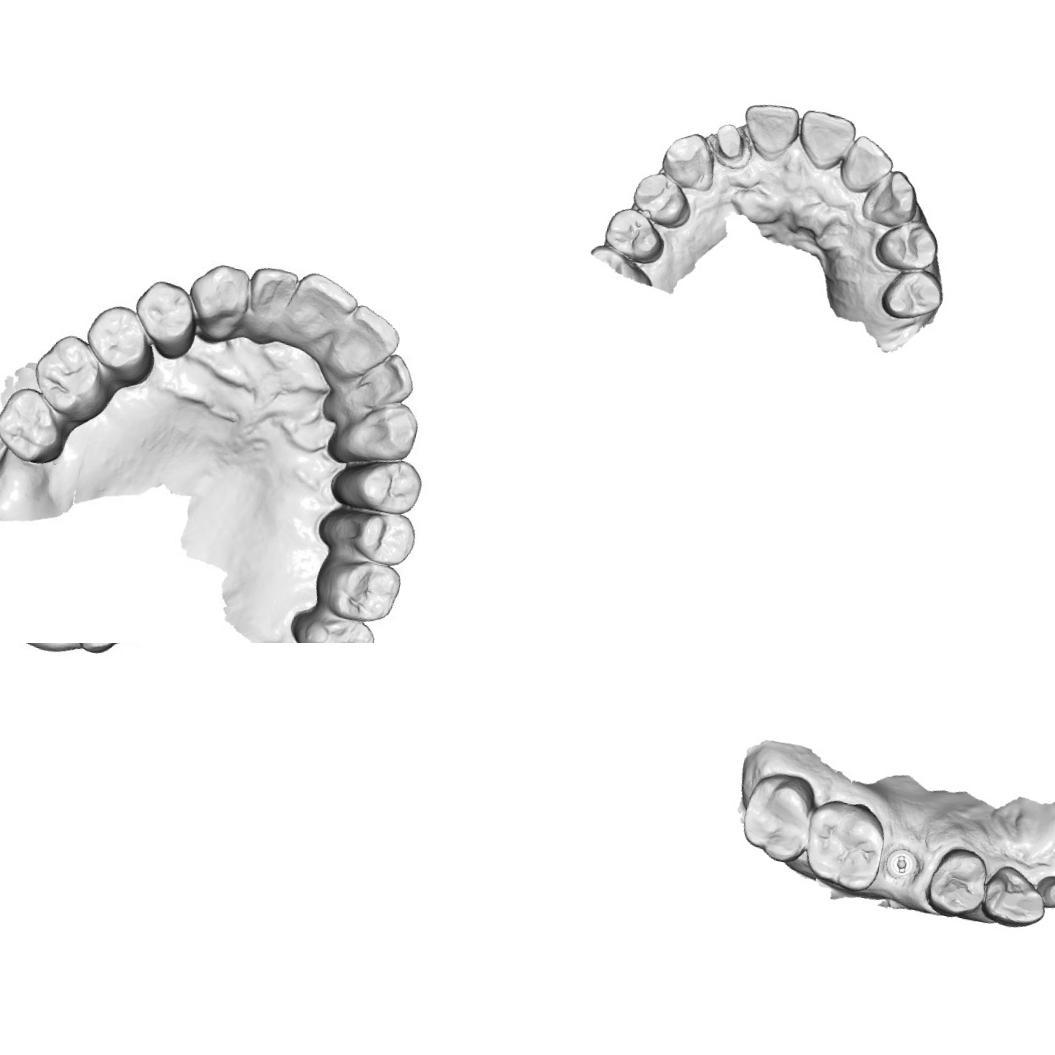canine: (178, 256, 255, 346), (338, 391, 422, 471), (978, 858, 1054, 934), (654, 124, 724, 195), (856, 162, 927, 232), (73, 643, 130, 657)
crown: (710, 118, 751, 164), (1033, 867, 1055, 914)
implant_minus: (882, 842, 922, 885)
incisor: (324, 295, 404, 383), (286, 267, 360, 348), (346, 342, 421, 421), (790, 104, 860, 178), (240, 260, 303, 338), (734, 95, 804, 165), (835, 129, 900, 199)
molar: (796, 792, 892, 896), (733, 764, 821, 868), (26, 326, 110, 421), (319, 550, 408, 629), (0, 380, 71, 470), (295, 604, 380, 643)
premolar: (124, 272, 202, 359), (78, 300, 158, 382), (920, 839, 994, 923), (348, 448, 428, 522), (341, 500, 421, 570), (869, 210, 946, 278), (875, 261, 948, 328), (626, 166, 699, 232), (598, 202, 670, 268)
